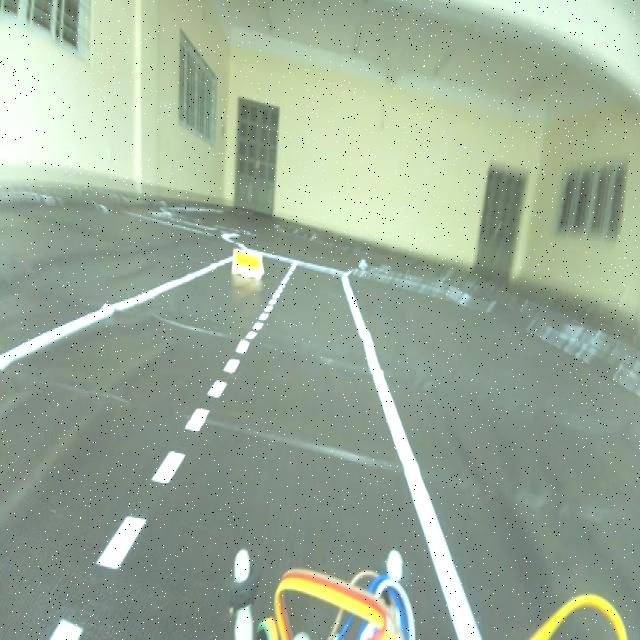roadblock: (231, 242, 267, 278)
